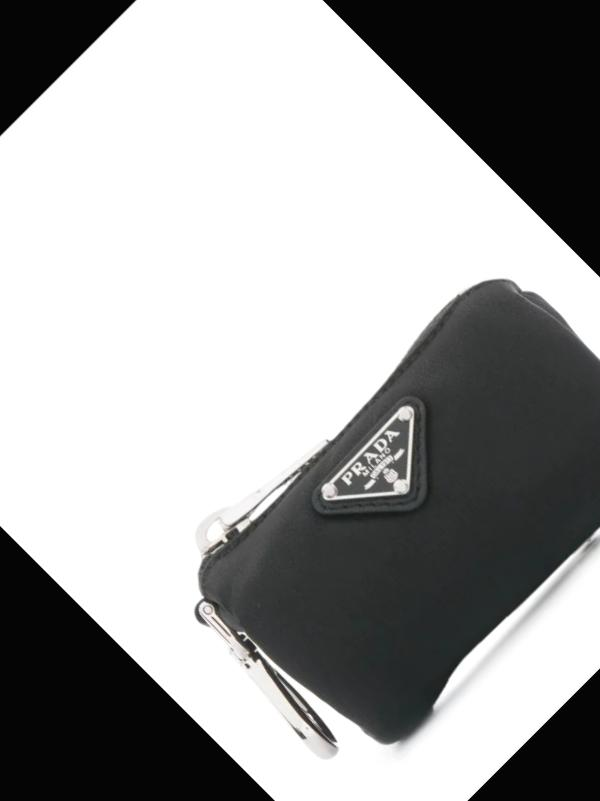PRADA: (316, 400, 452, 536)
